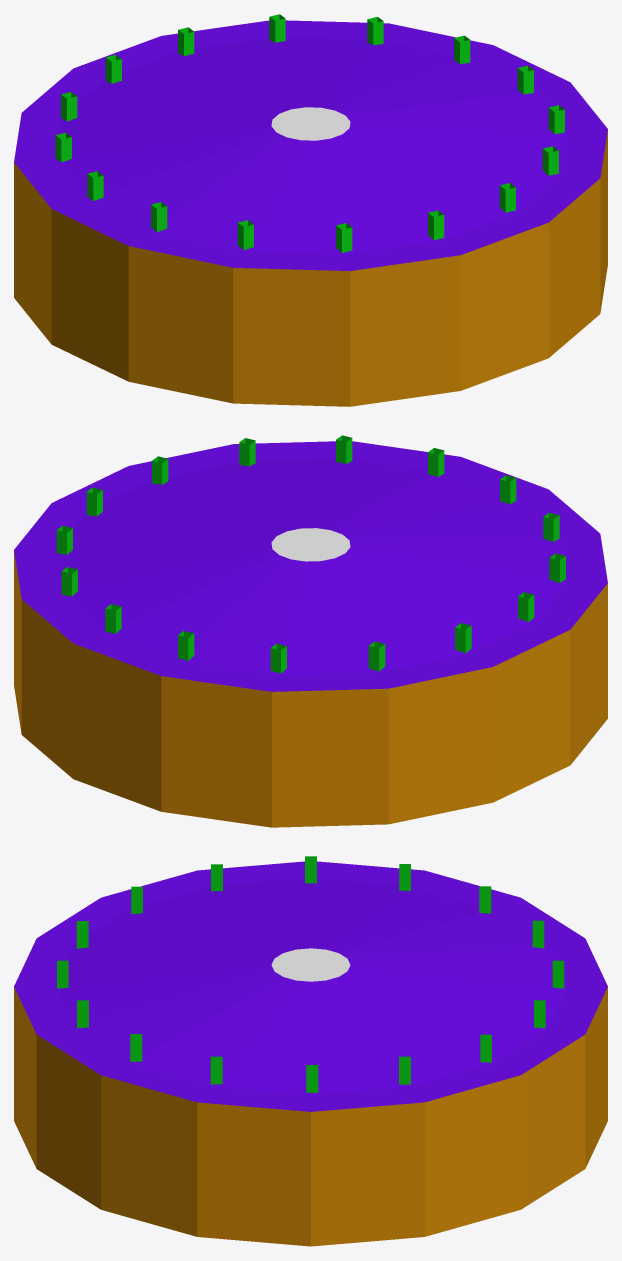
The model's file is AutomatonBossArena.fbx.
3 views of the same model, one above another, from view 1: azimuth 30°, elevation 25°; view 2: azimuth 150°, elevation 25°; view 3: azimuth 270°, elevation 25° (orthographic).
Parts seen in each view (by area): view 1: Cylinder; view 2: Cylinder; view 3: Cylinder.
Boxes of the visible parts, x1,y1,x2,y2 form: Cylinder: (14, 14, 607, 406); Cylinder: (14, 435, 607, 827); Cylinder: (14, 856, 607, 1246).
Bounding box in the file's own units: 10000 × 3037 × 10000.
